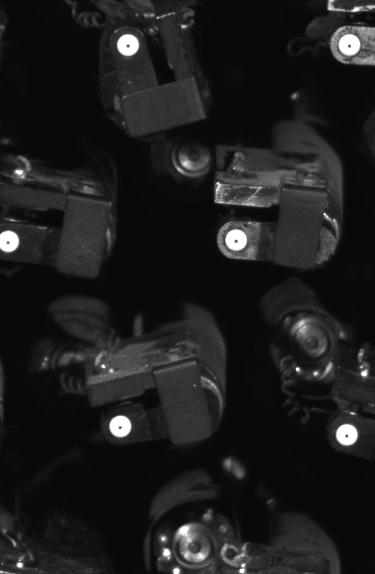fiber: (103, 411, 138, 442), (220, 224, 254, 254), (112, 29, 144, 60), (330, 419, 363, 449), (336, 31, 367, 61), (1, 225, 25, 262)
